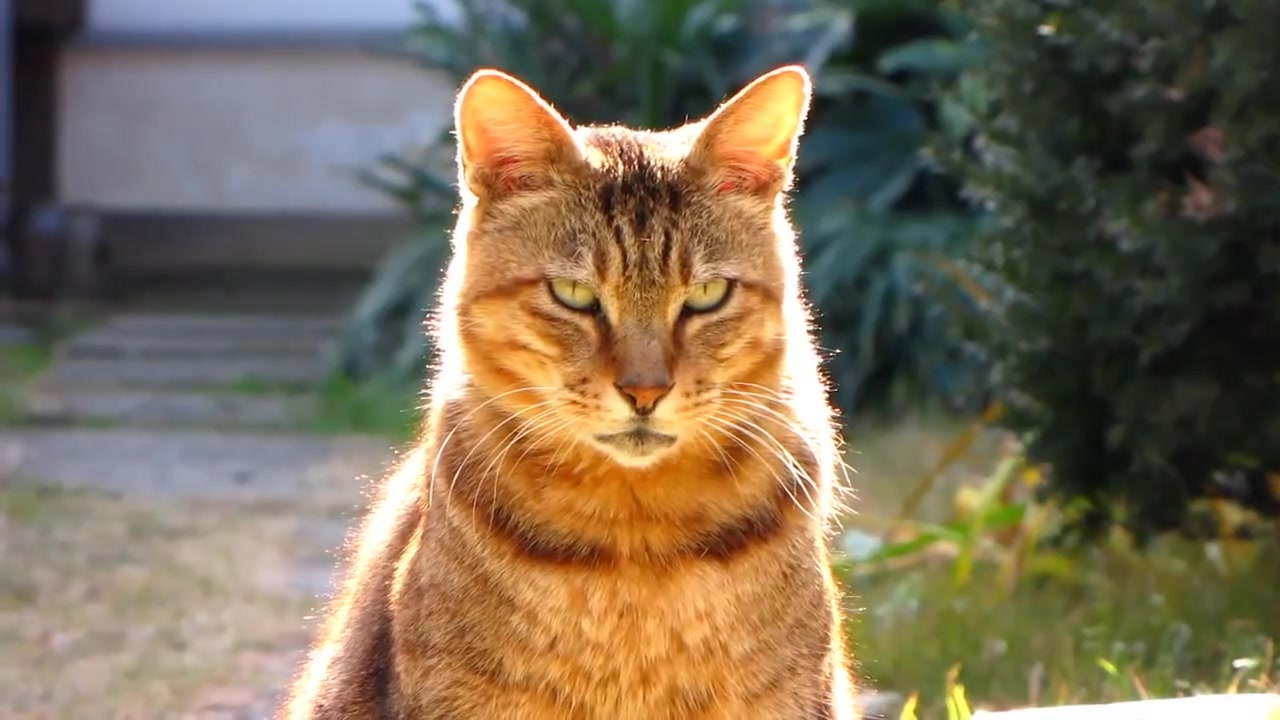cat: (275, 64, 883, 720)
